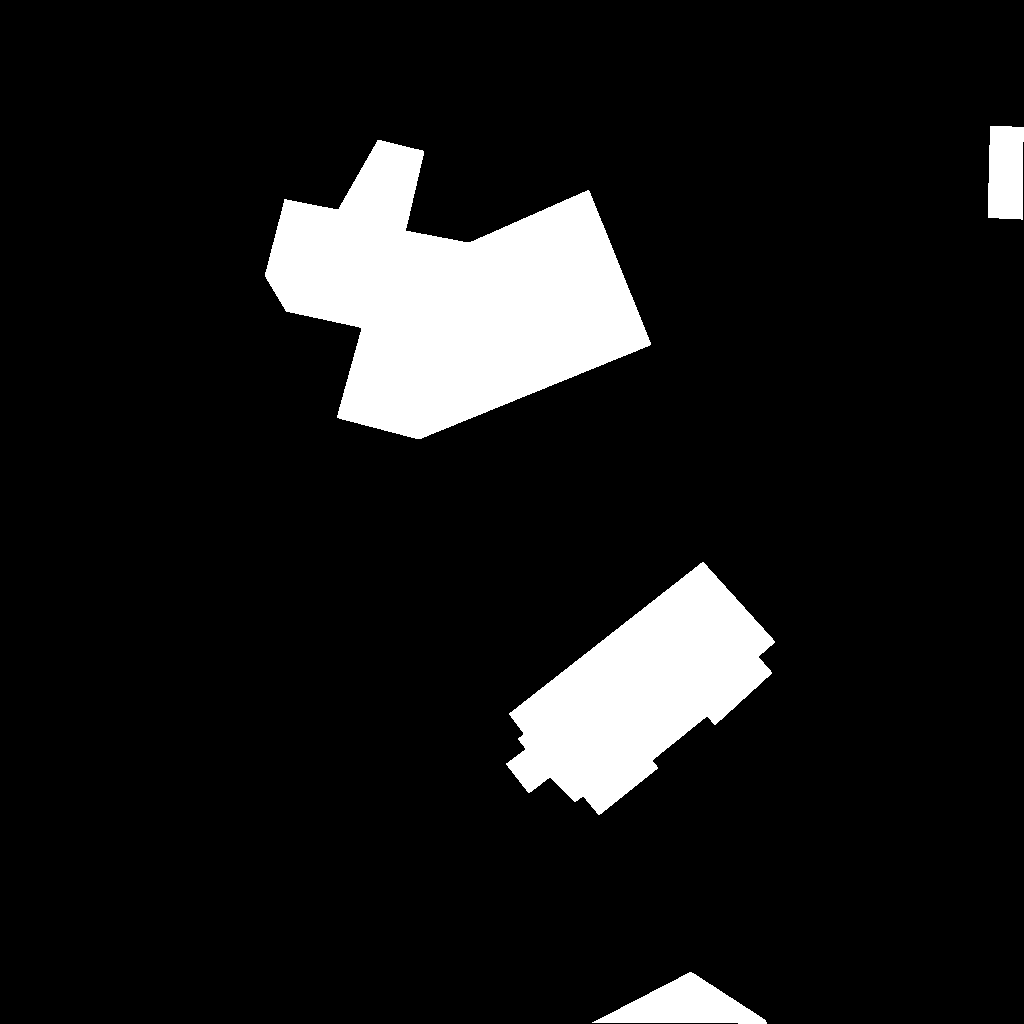building: (265, 140, 652, 440), (506, 562, 776, 816), (592, 972, 768, 1024), (988, 126, 1024, 220)
